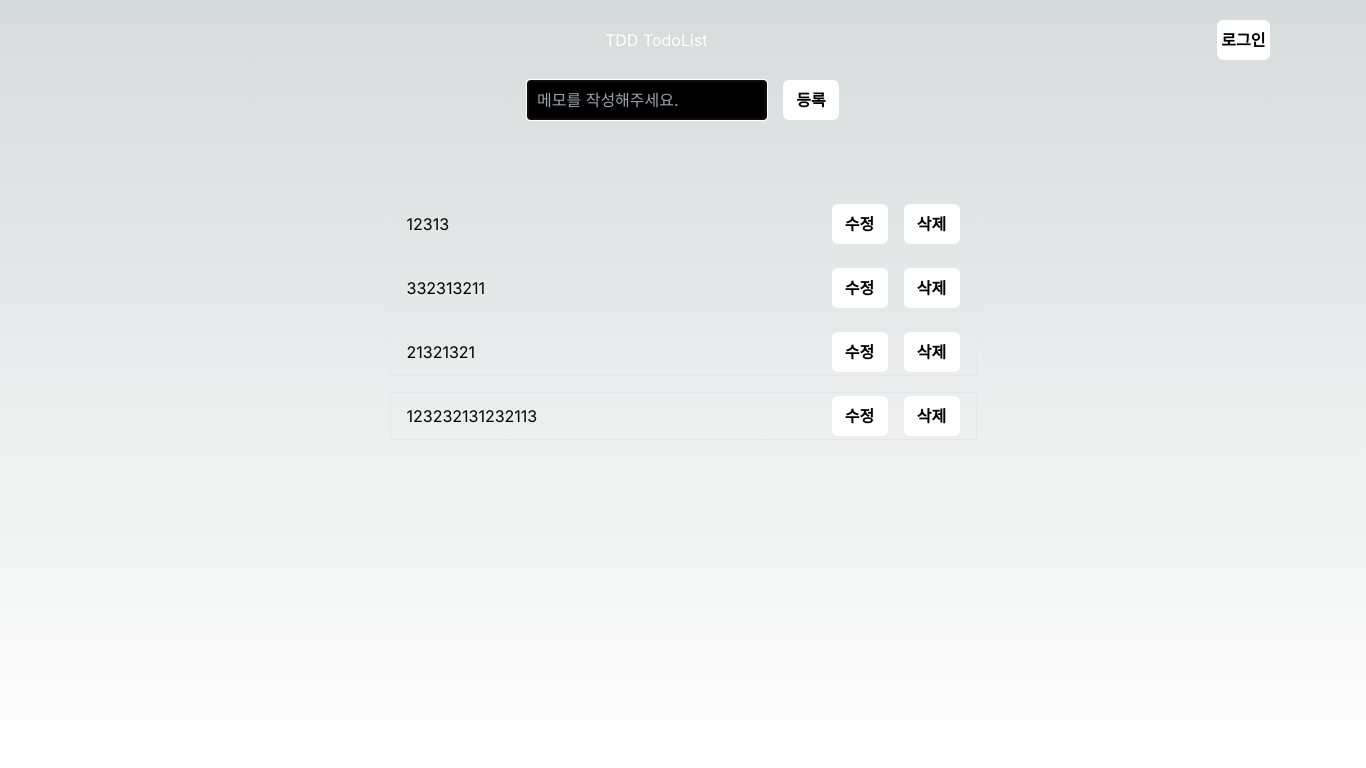
Test case: Home › 새로운 todo를 추가한다.
Step 1. Type "새로운 할 일" into the field with placeholder "메모를 작성해주세요." → (647, 100), box [527,80,767,120]
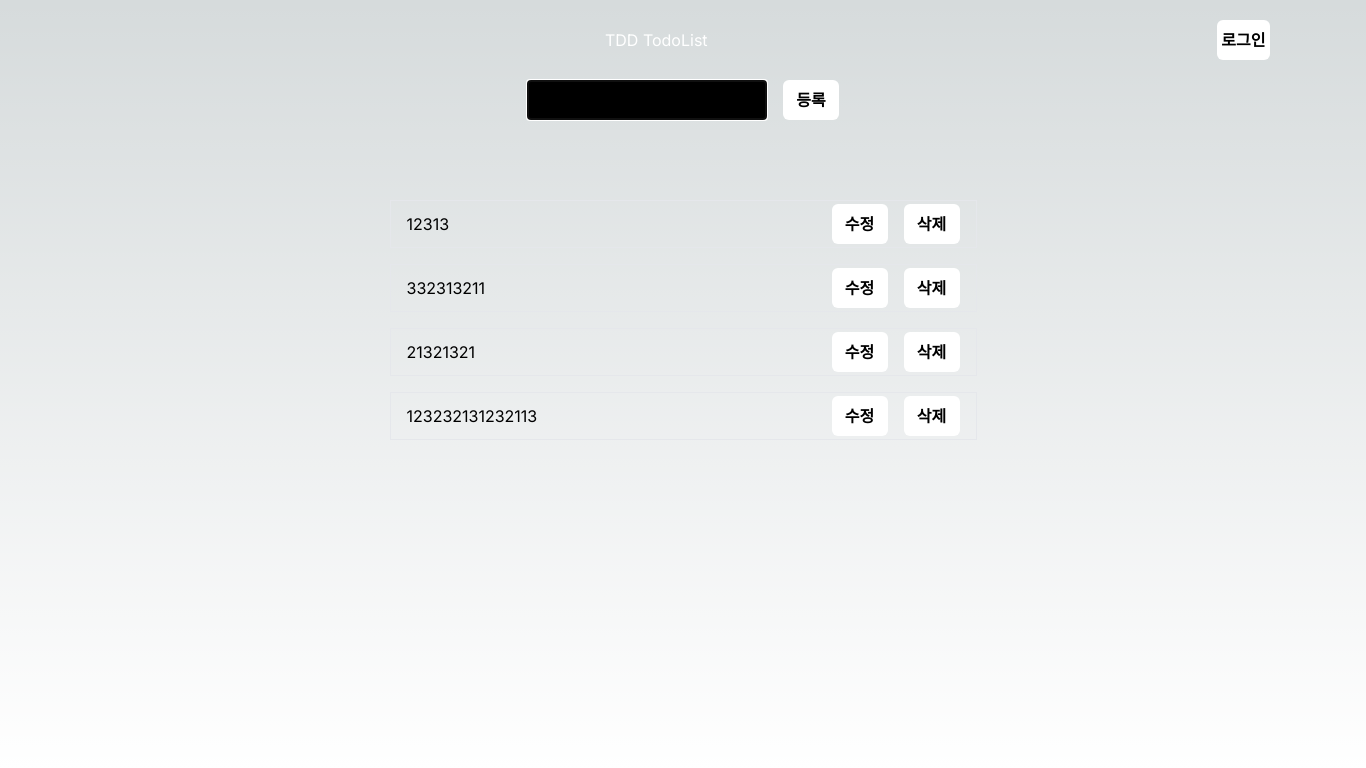
// '등록' 버튼 클릭
Step 2. Click the button "등록" → (811, 100), box [783,80,839,120]
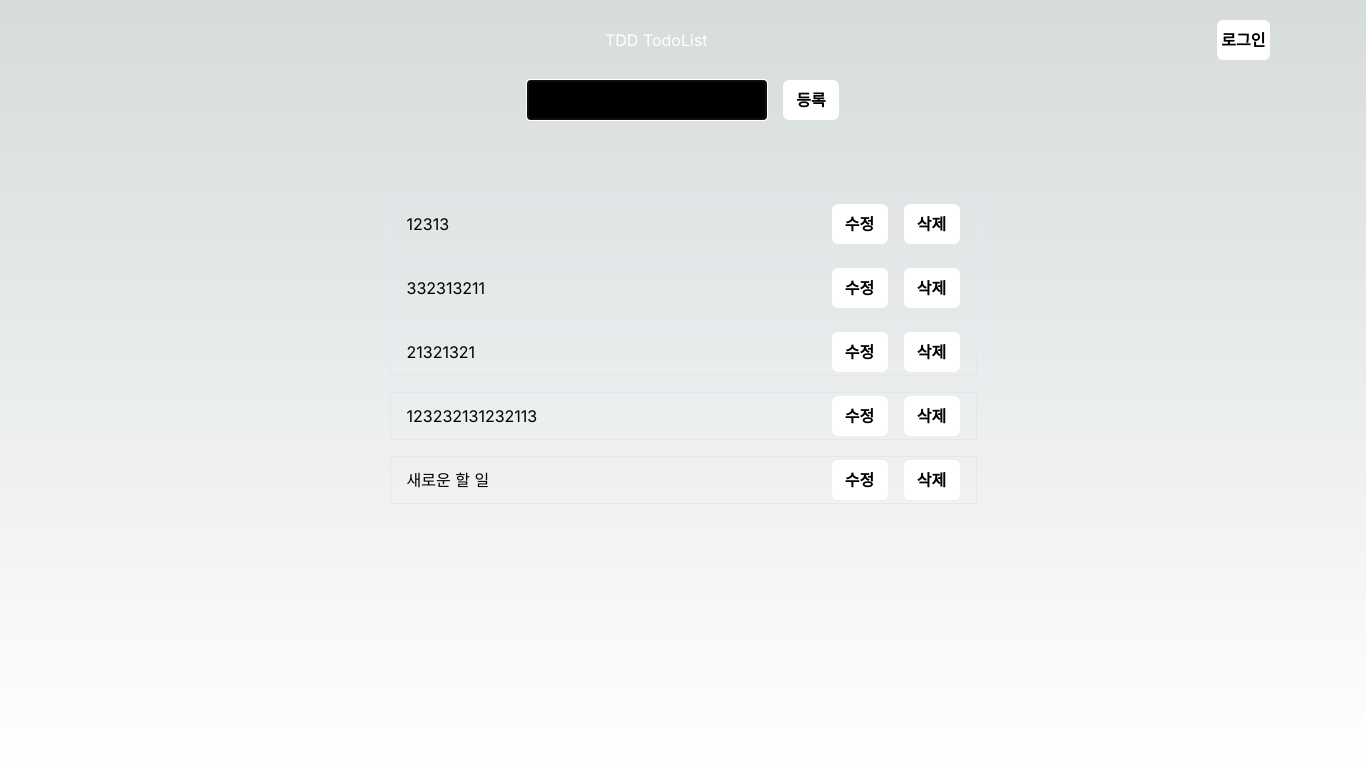
expect the text "새로운 할 일" is shown: met, box [406,468,489,492]
